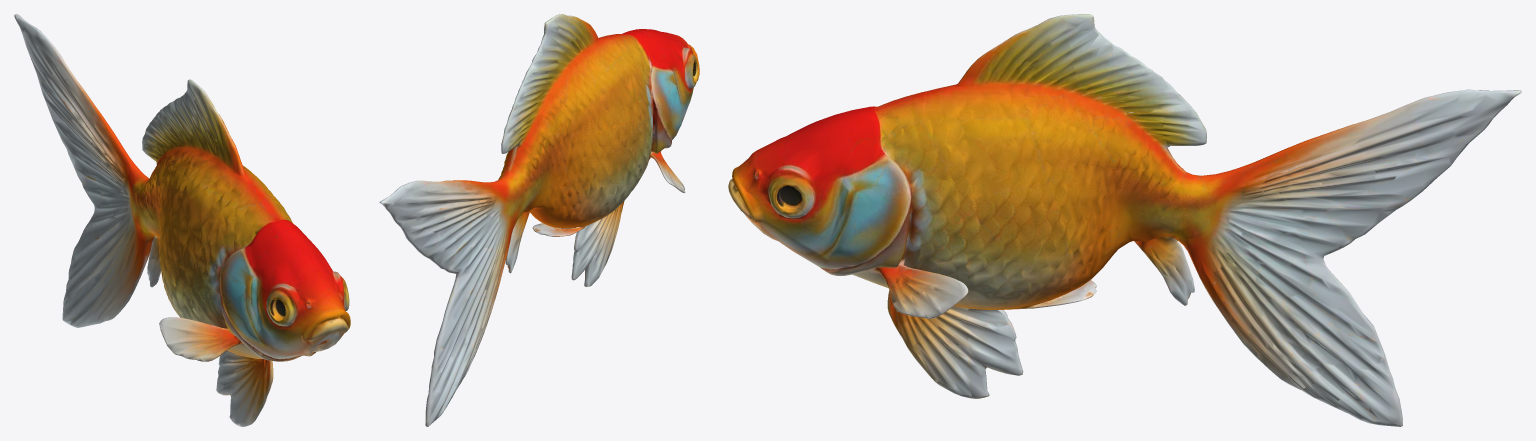
Rendered from Goldfish.glb.
The picture shows the model from 3 angles, left to right: view 1: azimuth 30°, elevation 25°; view 2: azimuth 150°, elevation 25°; view 3: azimuth 270°, elevation 25°; orthographic projection. The views are drawn at different scales.
Size of the model in its own units: 0.5673 by 1.09 by 1.9.
Materials: 1 (1 with a texture image).
